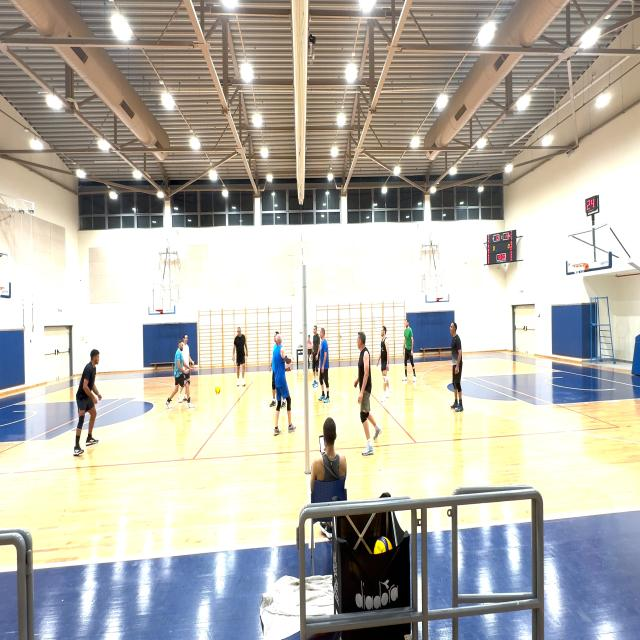volleyball: (373, 536, 393, 555), (216, 386, 220, 394)
